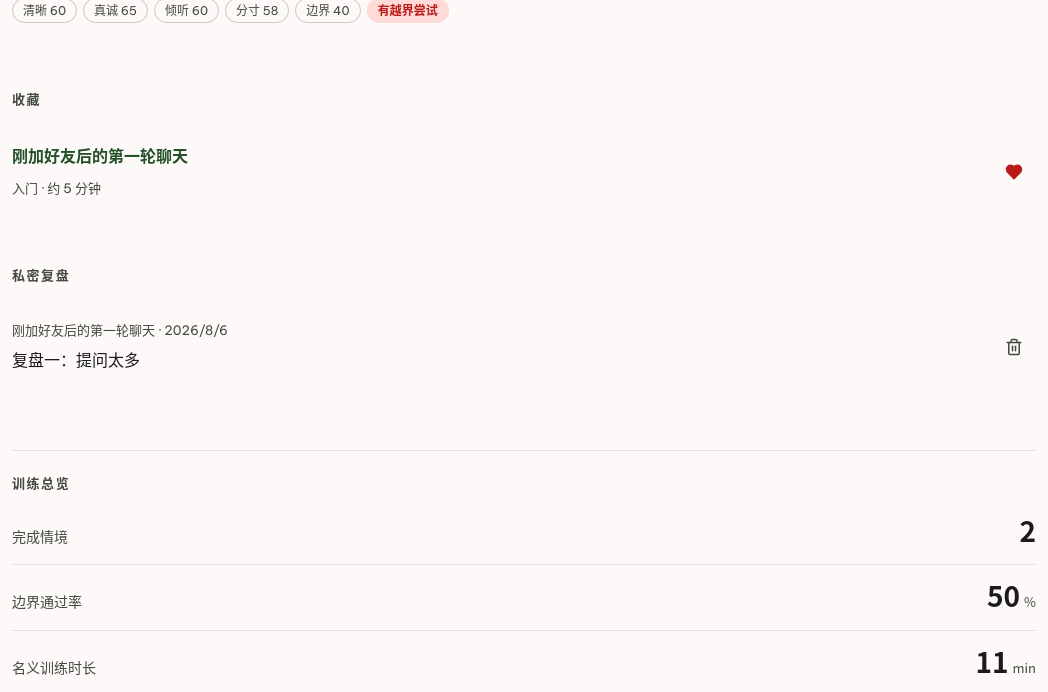
Test: 进度页 › 可删除复盘
The width and height of the screenshot is (1048, 692).
(page scrolled)
Click the button named "删除这条复盘".
click(1014, 347)  # box [992,325,1036,369]
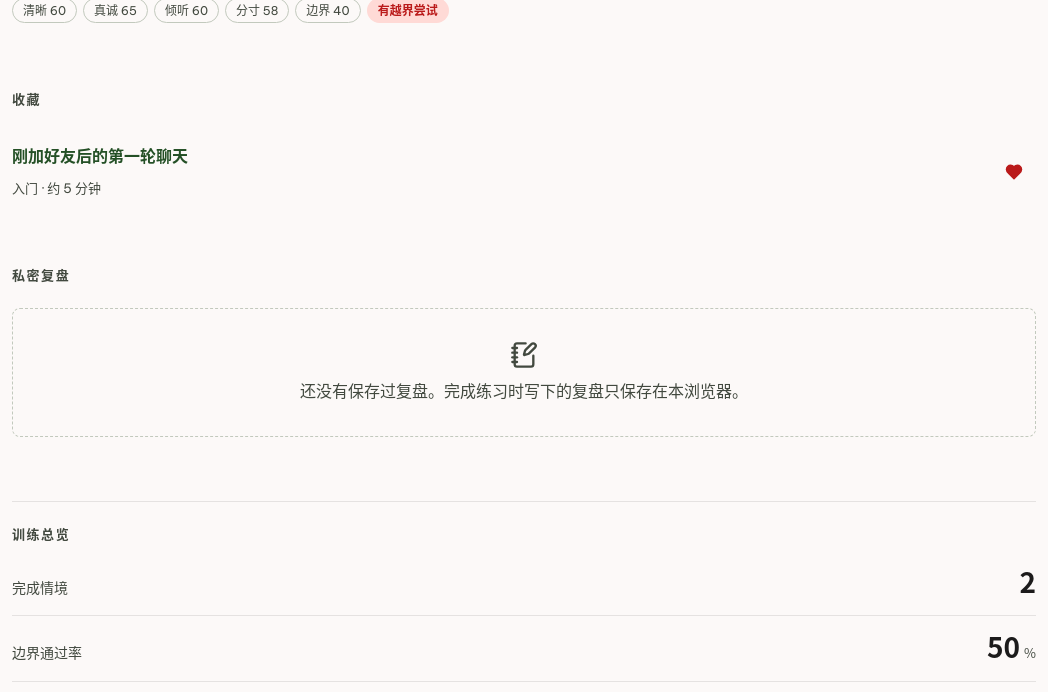
Now the text "复盘一：提问太多" is gone
Now the text "还没有保存过复盘。完成练习时写下的复盘只保存在本浏览器。" is shown, box [300,379,748,404]
